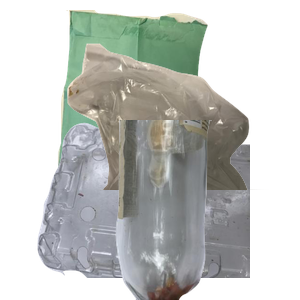glass: (113, 120, 300, 300)
paper: (55, 10, 255, 190)
plastic: (35, 120, 275, 300)
trash: (65, 41, 300, 221)
